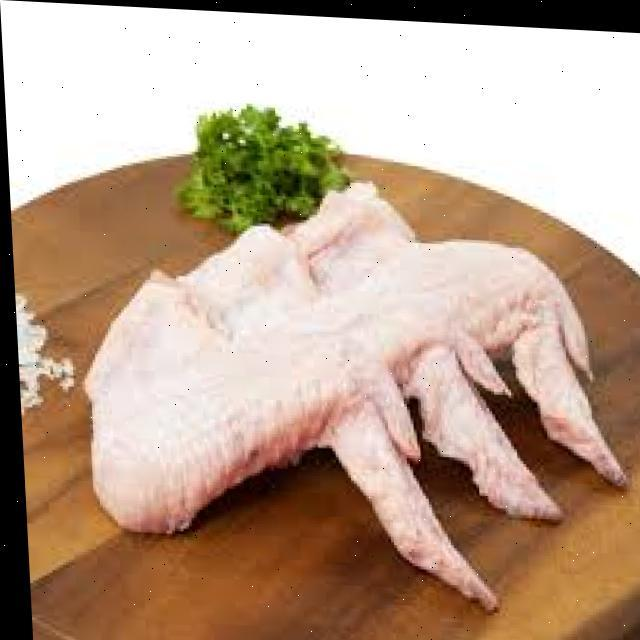wing: (58, 252, 476, 626), (202, 212, 546, 515), (304, 178, 617, 467)
